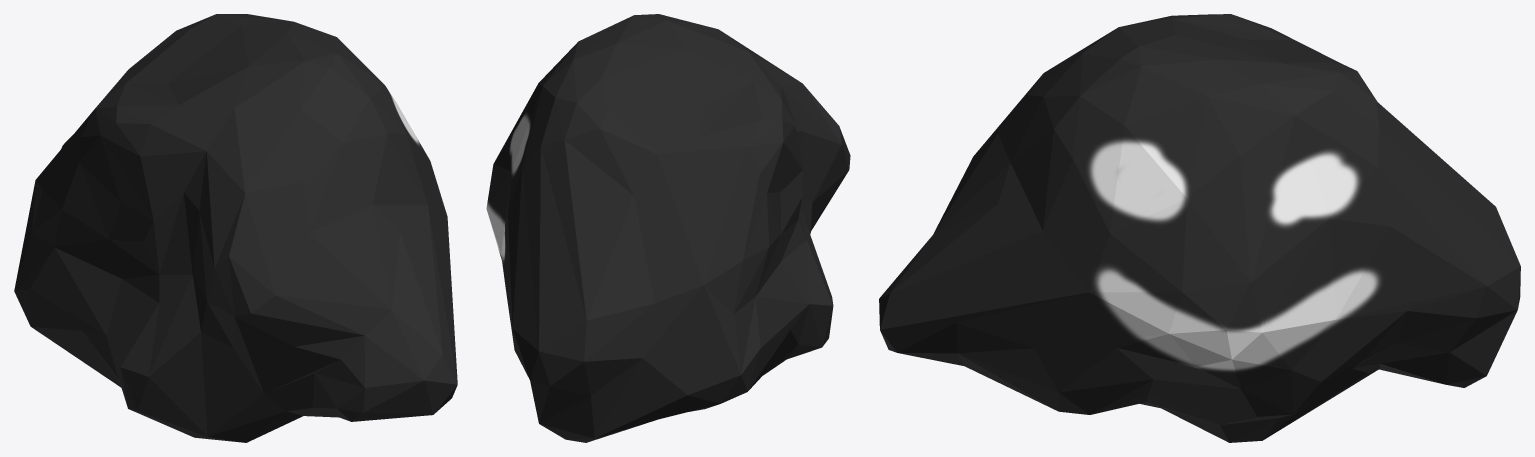
Rendered from rochBoss.fbx.
The picture shows the model from 3 angles, left to right: view 1: azimuth 30°, elevation 25°; view 2: azimuth 150°, elevation 25°; view 3: azimuth 270°, elevation 25°; orthographic projection. The views are drawn at different scales.
Visible parts, largest first — view 1: Icosphere; view 2: Icosphere; view 3: Icosphere.
Part boxes in pixels (left/top/right/bottom): Icosphere: left=14, top=14, right=457, bottom=442; Icosphere: left=486, top=14, right=850, bottom=442; Icosphere: left=879, top=14, right=1520, bottom=442.
Size of the model in its own units: 2.6 by 3.93 by 2.7.
